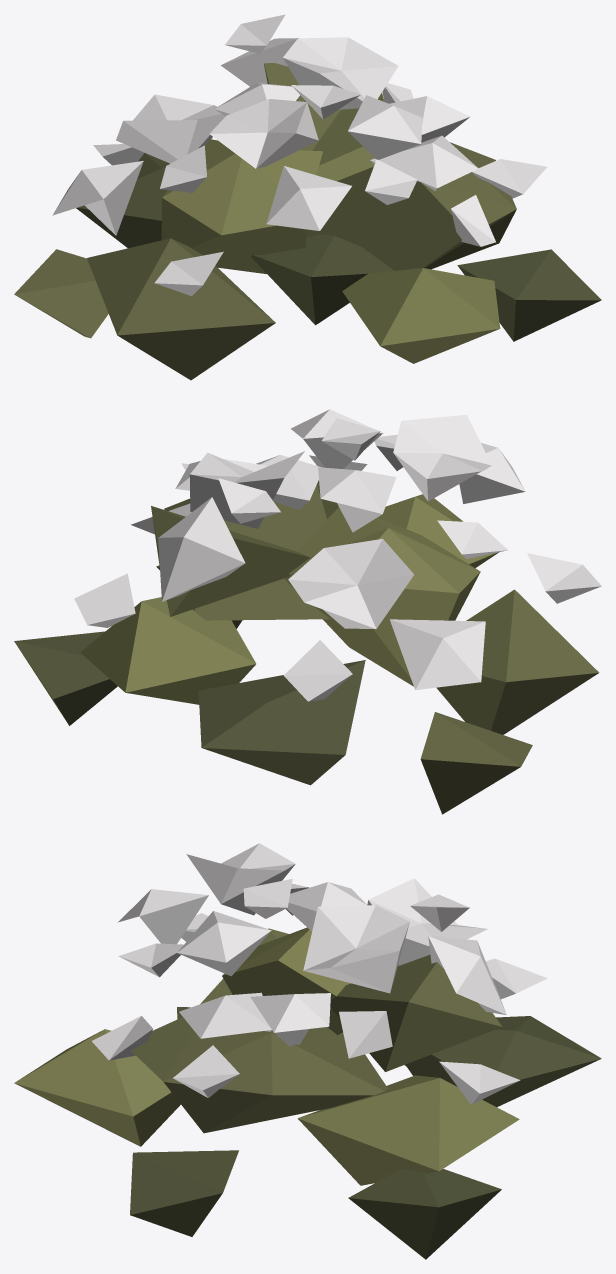
The model's file is env_flowers2.gltf.
3 renders of one model, top to bottom at view 1: azimuth 30°, elevation 25°; view 2: azimuth 150°, elevation 25°; view 3: azimuth 270°, elevation 25°, orthographic. The views are drawn at different scales.
Parts seen in each view (by area): view 1: env_flowers2; view 2: env_flowers2; view 3: env_flowers2.
Part boxes in pixels (x1,y1,x2,y2): env_flowers2: (14,14,601,380); env_flowers2: (14,409,601,814); env_flowers2: (14,843,601,1259).
Bounding box in the file's own units: 0.9019 × 0.5029 × 0.9531.
1 material, 1 textured.
